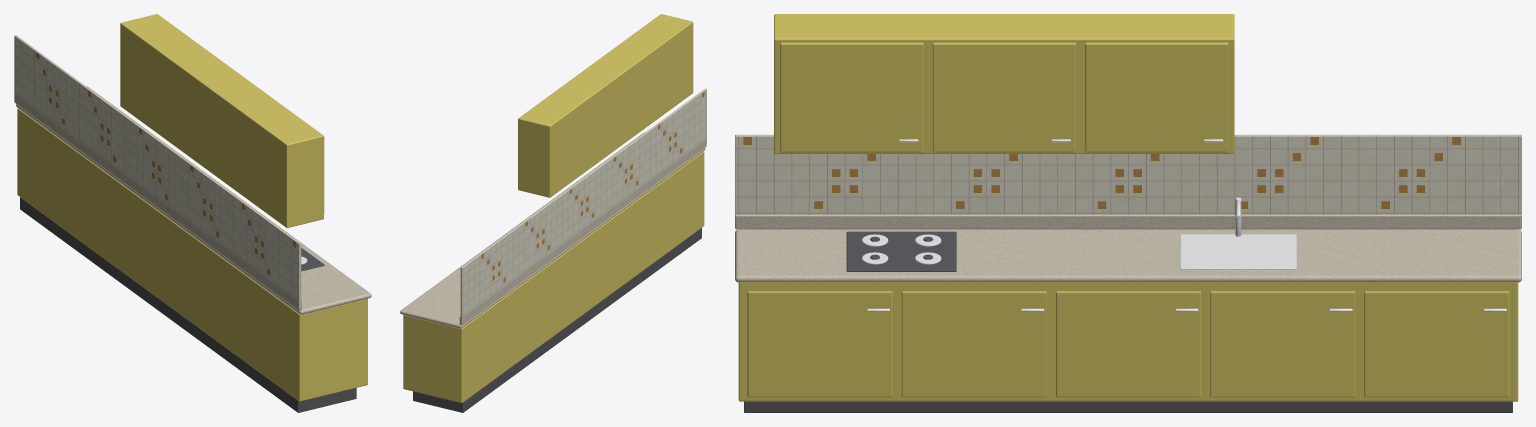
The model's file is interior-prop-kitchen-run.glb.
3 views of the same model, side by side, from view 1: azimuth 30°, elevation 25°; view 2: azimuth 150°, elevation 25°; view 3: azimuth 270°, elevation 25° (orthographic). The views are drawn at different scales.
Parts seen in each view (by area): view 1: kitchen-carcass, kitchen-wall-carcass, kitchen-backsplash, kitchen-toe-kick, kitchen-worktop, kitchen-splash-lip; view 2: kitchen-carcass, kitchen-wall-carcass, kitchen-backsplash, kitchen-toe-kick, kitchen-worktop, kitchen-splash-lip; view 3: kitchen-backsplash, kitchen-worktop, kitchen-wall-carcass, kitchen-carcass, kitchen-wall-door-1, kitchen-wall-door-0, kitchen-wall-door-2, kitchen-door-1, kitchen-door-3, kitchen-door-0, kitchen-door-4, kitchen-door-2 (+4 smaller).
Part boxes in pixels (x1=…): kitchen-carcass: x1=17, y1=108, x2=367, y2=401; kitchen-wall-carcass: x1=120, y1=14, x2=323, y2=227; kitchen-backsplash: x1=14, y1=35, x2=301, y2=308; kitchen-toe-kick: x1=20, y1=197, x2=356, y2=412; kitchen-worktop: x1=16, y1=86, x2=371, y2=314; kitchen-splash-lip: x1=14, y1=94, x2=301, y2=310; kitchen-carcass: x1=403, y1=151, x2=704, y2=403; kitchen-wall-carcass: x1=518, y1=14, x2=693, y2=197; kitchen-backsplash: x1=460, y1=88, x2=706, y2=323; kitchen-toe-kick: x1=413, y1=228, x2=701, y2=412; kitchen-worktop: x1=400, y1=132, x2=705, y2=328; kitchen-splash-lip: x1=459, y1=139, x2=706, y2=325; kitchen-backsplash: x1=735, y1=134, x2=1521, y2=215; kitchen-worktop: x1=735, y1=229, x2=1521, y2=282; kitchen-wall-carcass: x1=774, y1=14, x2=1234, y2=153; kitchen-carcass: x1=738, y1=282, x2=1518, y2=401; kitchen-wall-door-1: x1=932, y1=42, x2=1076, y2=152; kitchen-wall-door-0: x1=780, y1=42, x2=923, y2=152; kitchen-wall-door-2: x1=1085, y1=42, x2=1228, y2=152; kitchen-door-1: x1=901, y1=291, x2=1046, y2=397; kitchen-door-3: x1=1210, y1=291, x2=1355, y2=397; kitchen-door-0: x1=747, y1=291, x2=892, y2=397; kitchen-door-4: x1=1364, y1=291, x2=1509, y2=397; kitchen-door-2: x1=1056, y1=291, x2=1200, y2=397.
Size of the model in its own units: 0.664 by 2.24 by 4.44.
5 materials, 2 textured.
